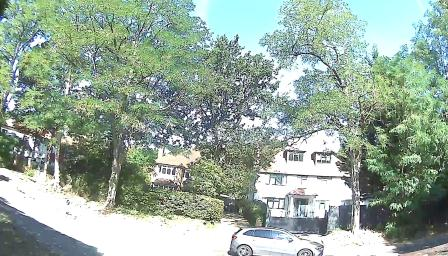Cars: (228, 230, 320, 255)
